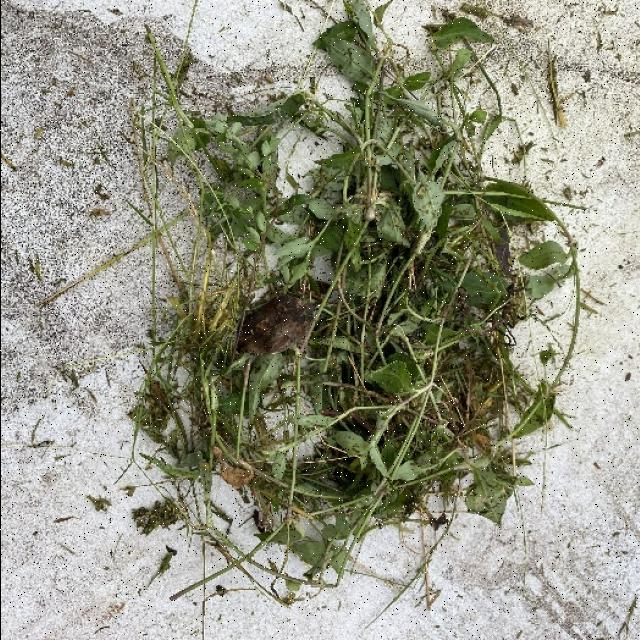organik: (105, 42, 578, 586)
